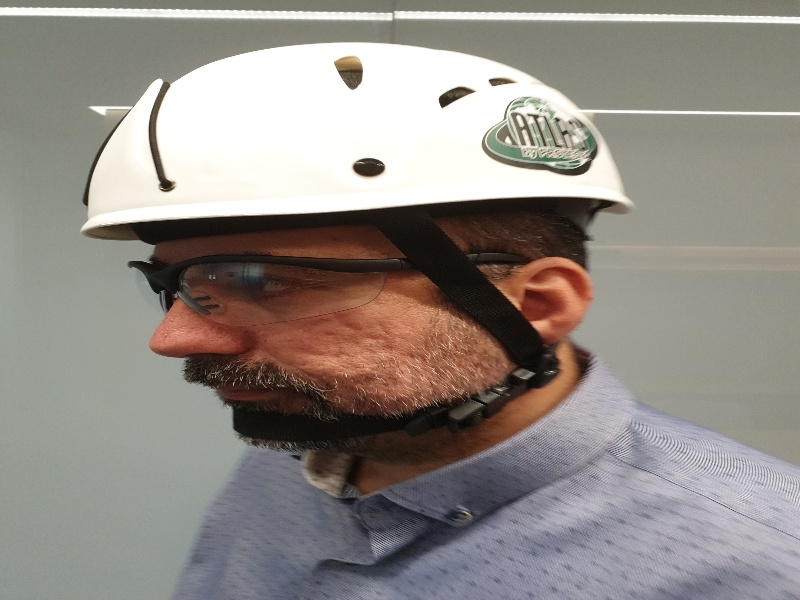Baret: (82, 39, 630, 236)
Gozluk: (126, 249, 522, 318)
